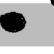correct: (0, 7, 27, 40)
